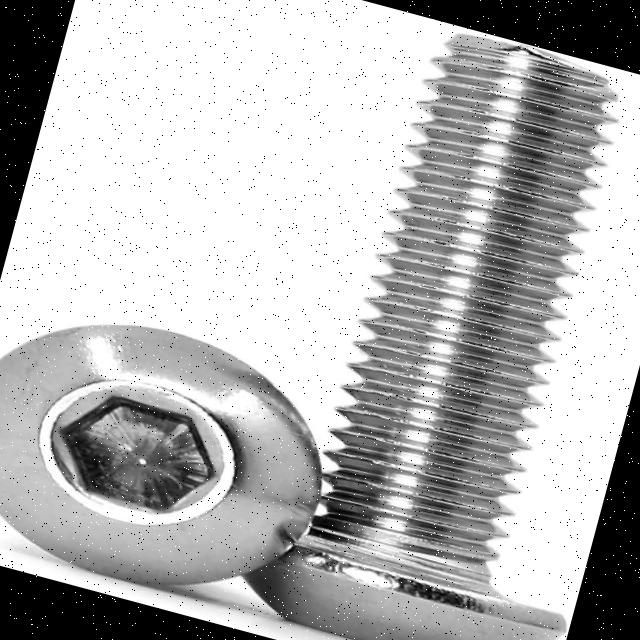Hex Socket Allen: (0, 284, 351, 623)
